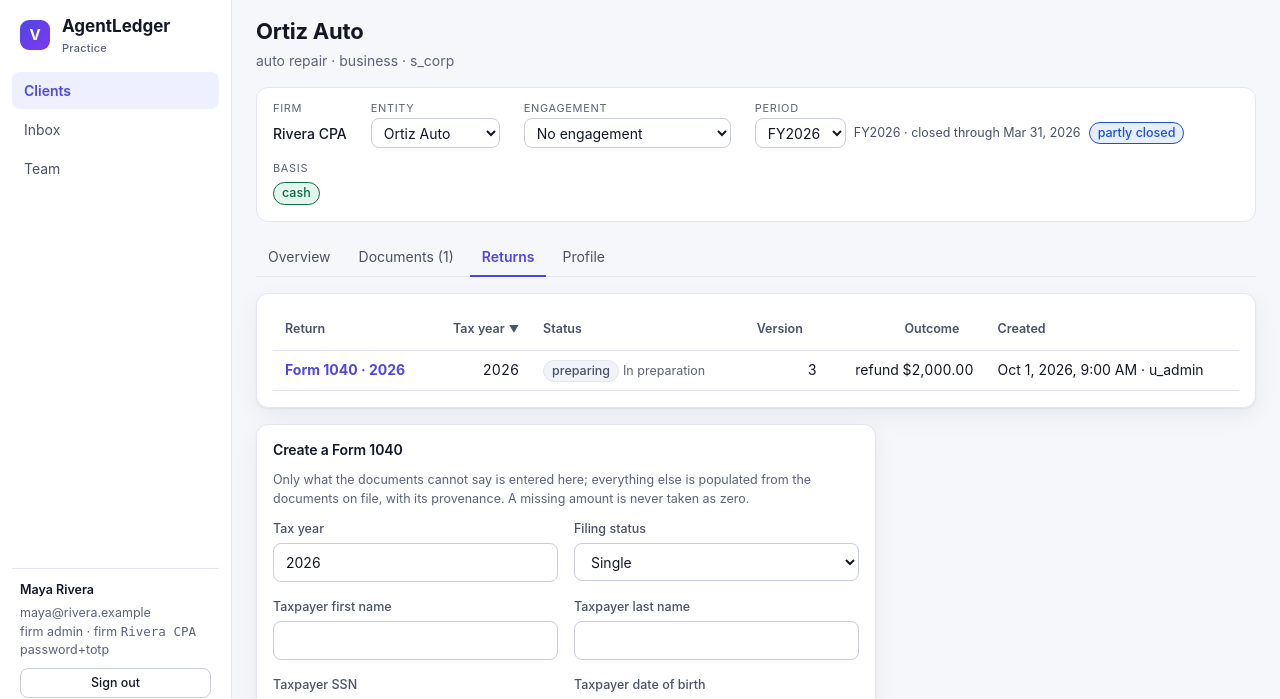
Test: status page and the returns list › the client's returns tab lists the return and creates a Form 1040 for a tax year
Check: the link "Form 1040 · 2026" is shown, box [285,360,405,378]
Replace the text in the number field labelled "Tax year" with "2025" at (416, 562), box [273,543,558,582]
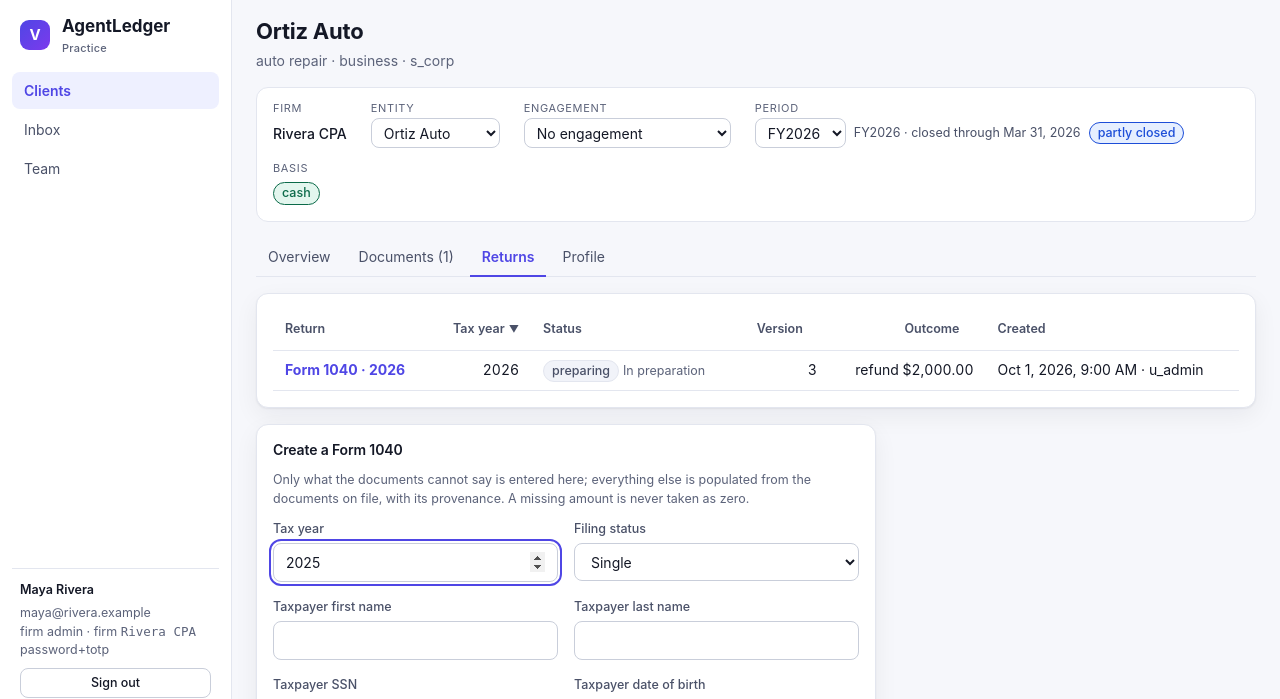
Type "Jordan" into the field labelled "Taxpayer first name" at (416, 640), box [273,621,558,660]
(page scrolled)
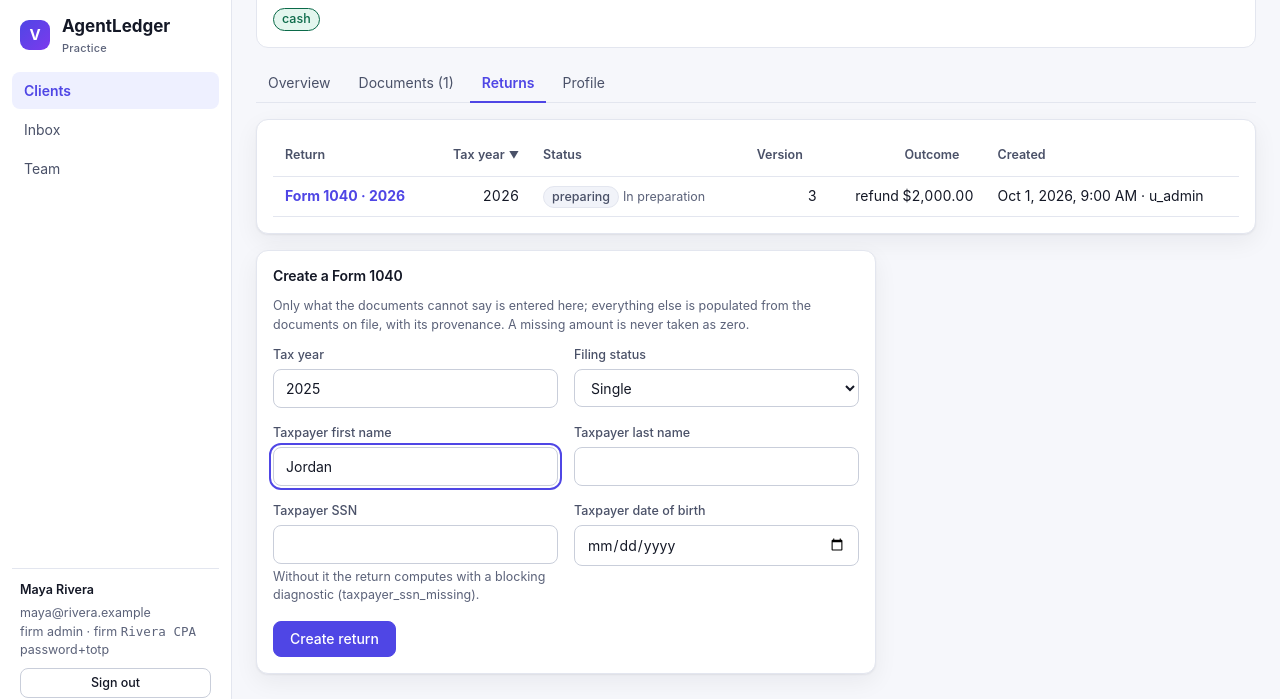
Type "400-00-0009" into the field labelled "Taxpayer SSN" at (416, 544), box [273,524,558,564]
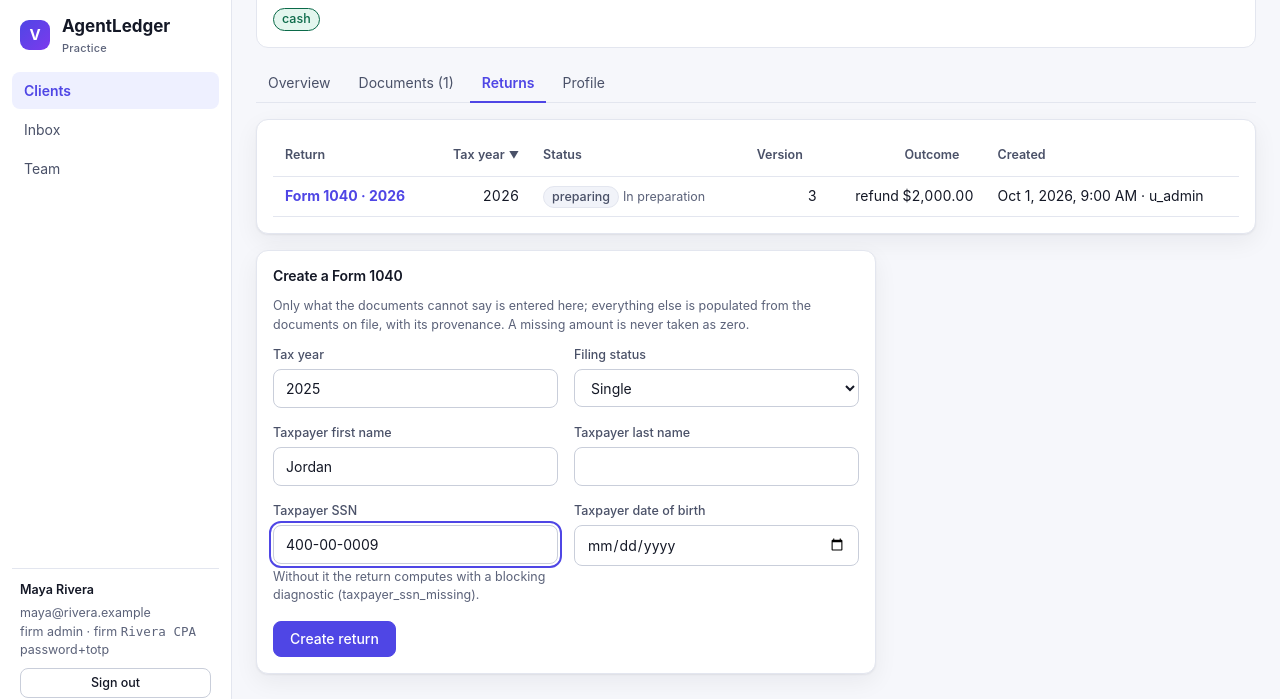
Click the button "Create return" at (334, 639), box [273,621,396,657]
(page scrolled)
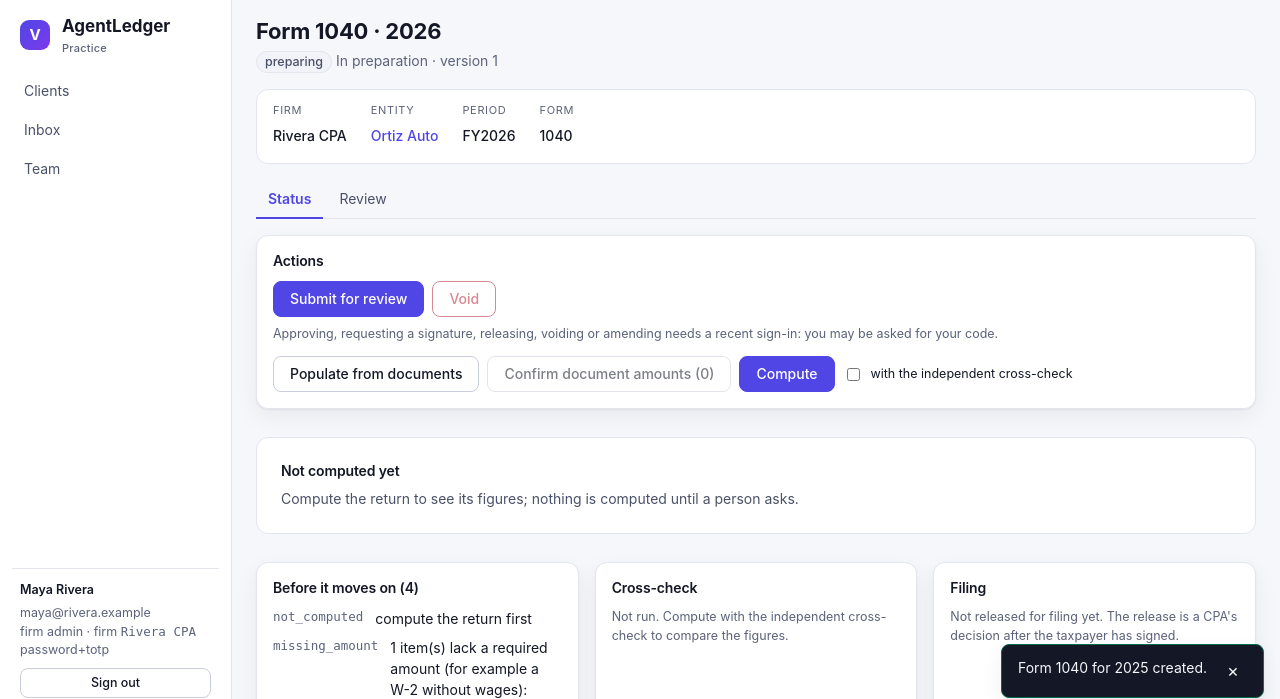
Check: the message "Not computed yet" is shown, box [256,437,1256,534]
